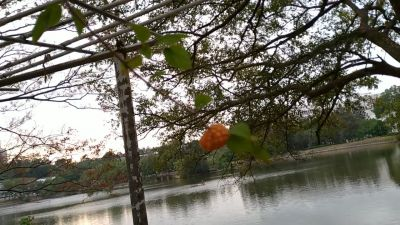eggs: (200, 122, 231, 150)
